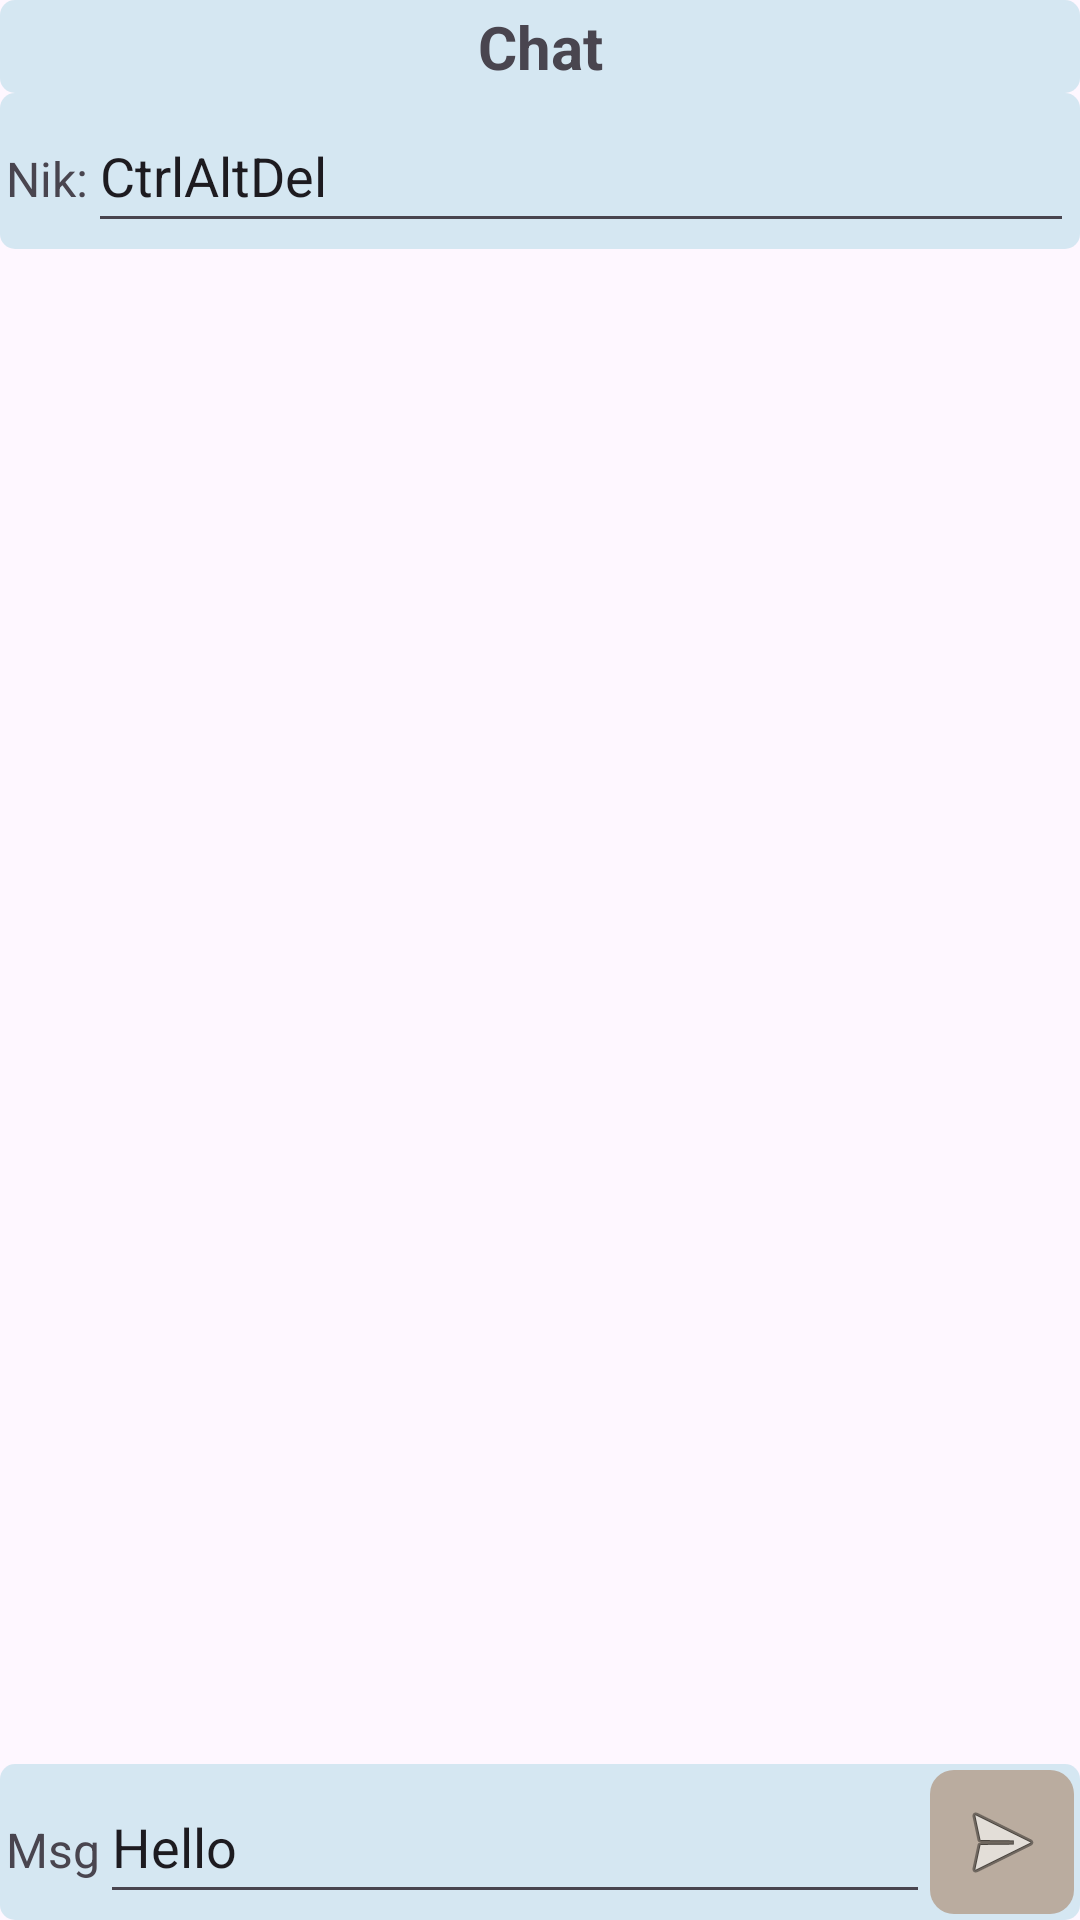

Screen size 1080×1920. Icon name, then its center in pixels as point (x, y):
Send: point (1002, 1842)
